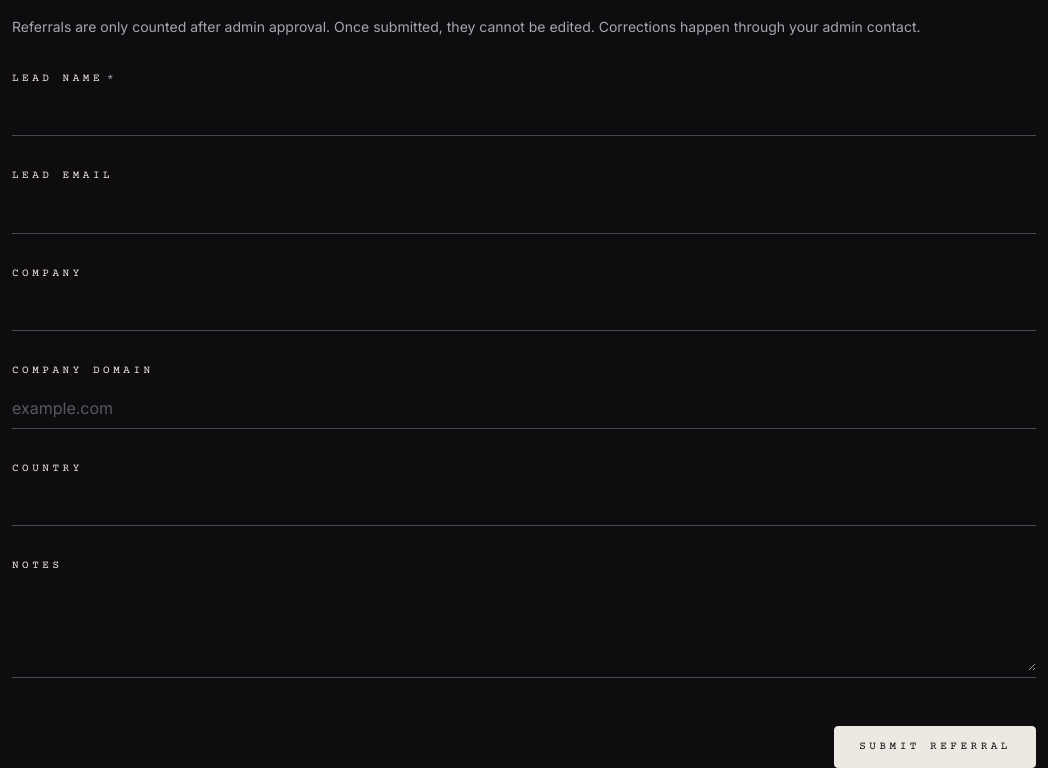
Test: ReferralForm › shows validation error when submitted with empty leadName
Click the button "Submit referral".
click(935, 747)  # box [834,726,1036,767]
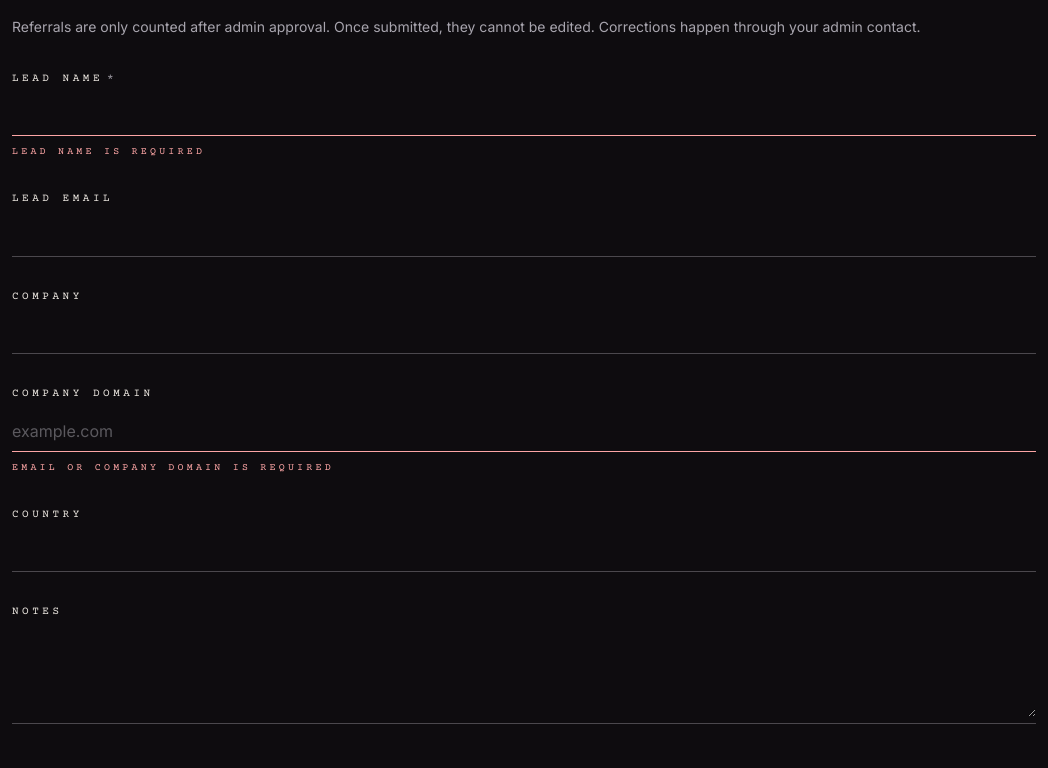
Expected: the text "Lead name is required" is shown, [12,146,205,157]
